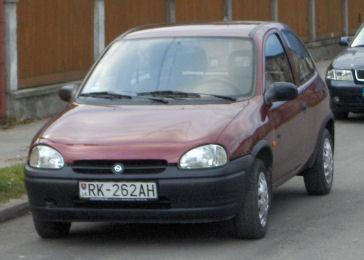placa de veiculo: (73, 171, 164, 207)
